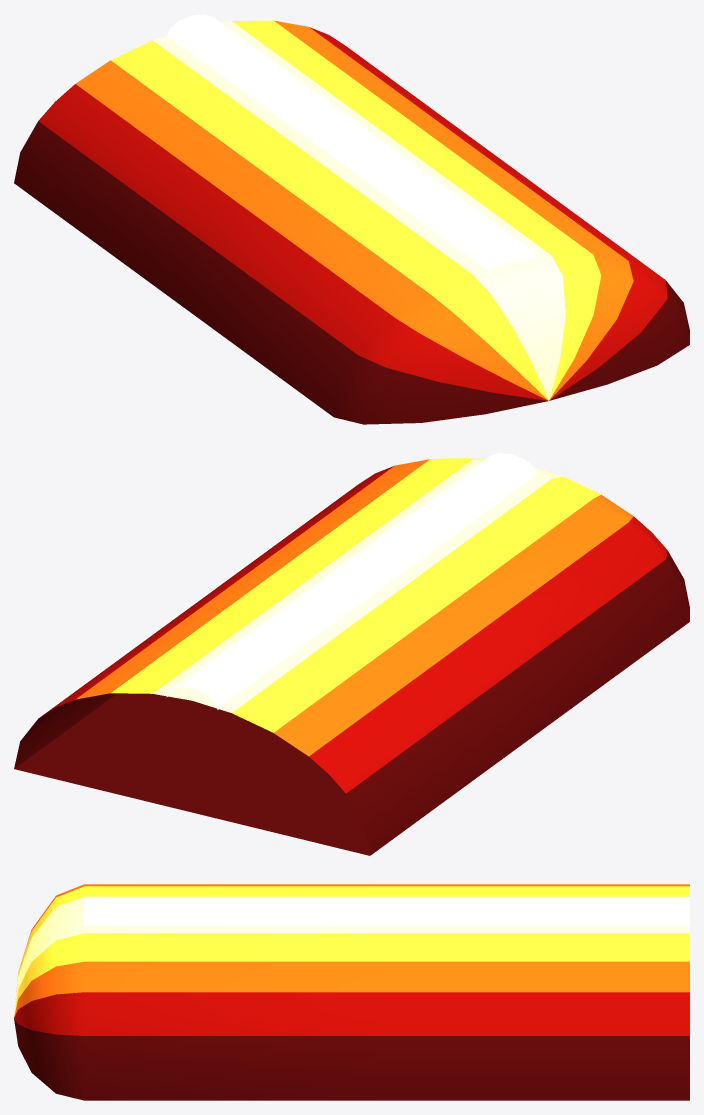
File: shot_laser.glb
3 renders of one model, top to bottom at view 1: azimuth 30°, elevation 25°; view 2: azimuth 150°, elevation 25°; view 3: azimuth 270°, elevation 25°, orthographic. The views are drawn at different scales.
Visible parts, largest first — view 1: shot_laser_rod, shot_laser_core0; view 2: shot_laser_rod, shot_laser_core0; view 3: shot_laser_rod, shot_laser_core0.
Part boxes in pixels (x1,y1,x2,y2): shot_laser_rod: (14,20,689,424); shot_laser_core0: (167,14,536,269); shot_laser_rod: (14,458,689,855); shot_laser_core0: (166,453,536,709); shot_laser_rod: (14,884,689,1100); shot_laser_core0: (84,896,689,925).
Bounding box in the file's own units: 9 × 3 × 15.62.
